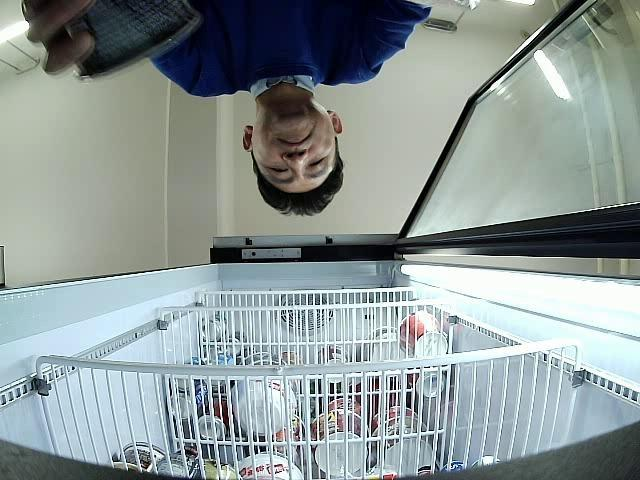08_buldak_S: (66, 0, 203, 81)
